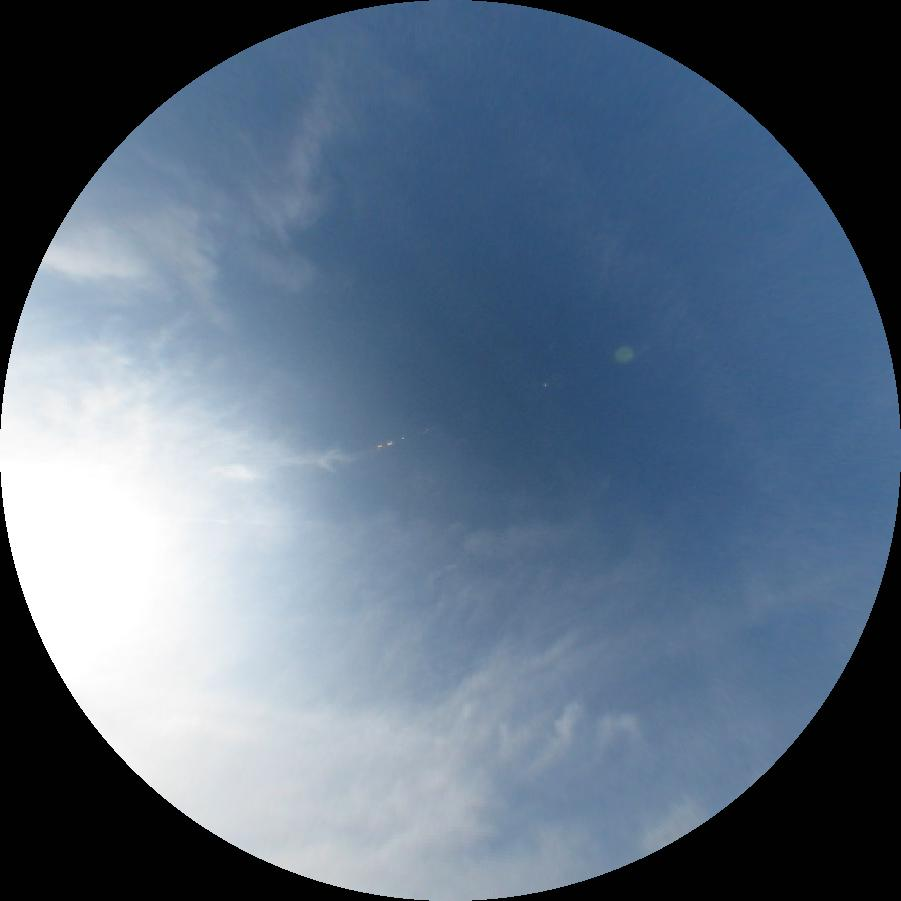contrail young: (372, 612, 589, 706)
parasite: (180, 517, 289, 528)
sun: (3, 464, 184, 691)
